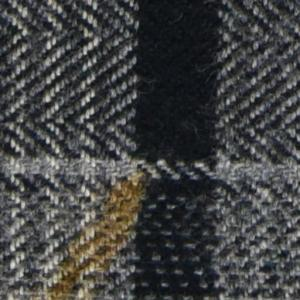Oil Stain: (29, 153, 158, 300)
